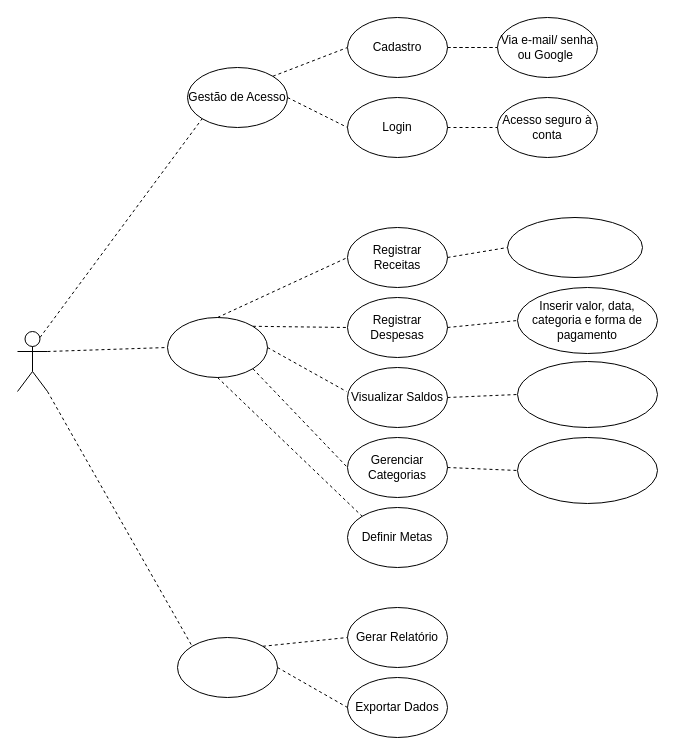
The diagram is 675 pixels wide and 755 high, and some of its shapes have lost their labels. The shapes that lost their labels are listed below. From the top down, each one's centre as x and y in pixels, then its label:
At point 574,247: "Inserir valor, data e categoria".
At point 32,361: "Actor".
At point 217,347: "Gestão Financeira".
At point 587,394: "Consulta automática de totais e saldo atual".
At point 587,470: "Criar, editar ou excluir categorias personalizadas".
At point 227,667: "Análise de Dados".
